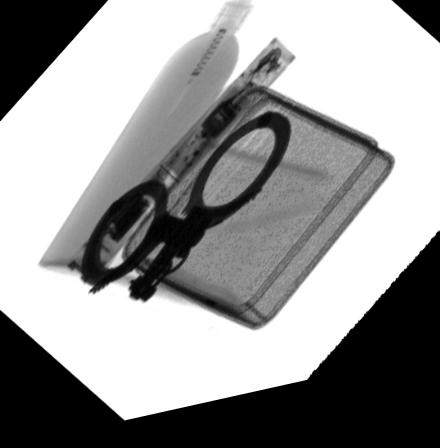Baton: (64, 49, 296, 288)
HandCuffs: (77, 121, 295, 308)
